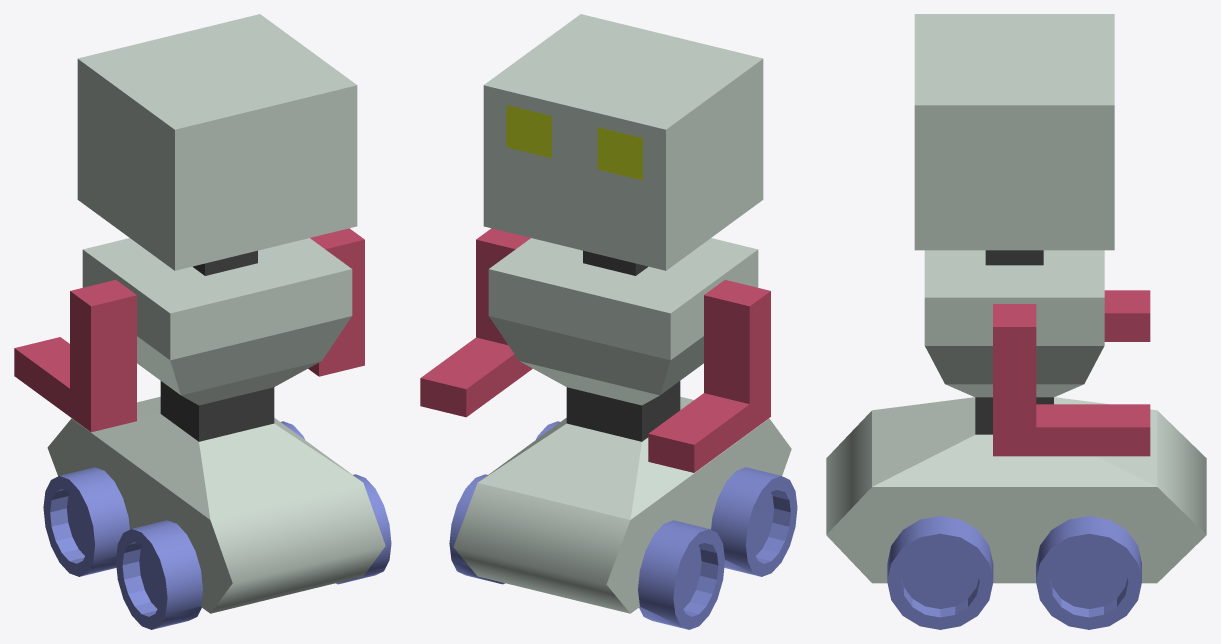
Rendered from type_α.FBX.
The picture shows the model from 3 angles, left to right: view 1: azimuth 30°, elevation 25°; view 2: azimuth 150°, elevation 25°; view 3: azimuth 270°, elevation 25°; orthographic projection. The views are drawn at different scales.
Visible parts, largest first — view 1: type_αBody; view 2: type_αBody; view 3: type_αBody.
Part boxes in pixels (<box>): type_αBody: <box>14,14,391,629</box>; type_αBody: <box>420,14,797,629</box>; type_αBody: <box>826,14,1206,629</box>.
Size of the model in its own units: 12.03 by 21.02 by 14.11.
